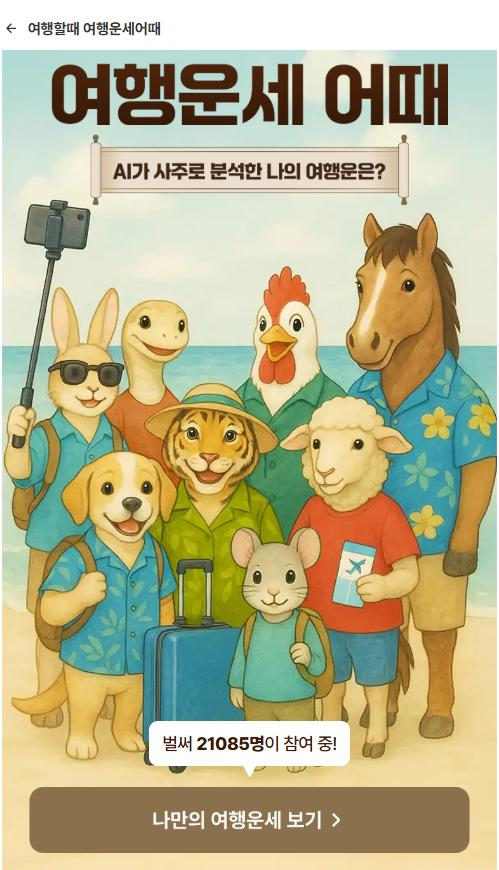button: (30, 788, 469, 852), (2, 16, 17, 39)
popup: (147, 722, 351, 782)
